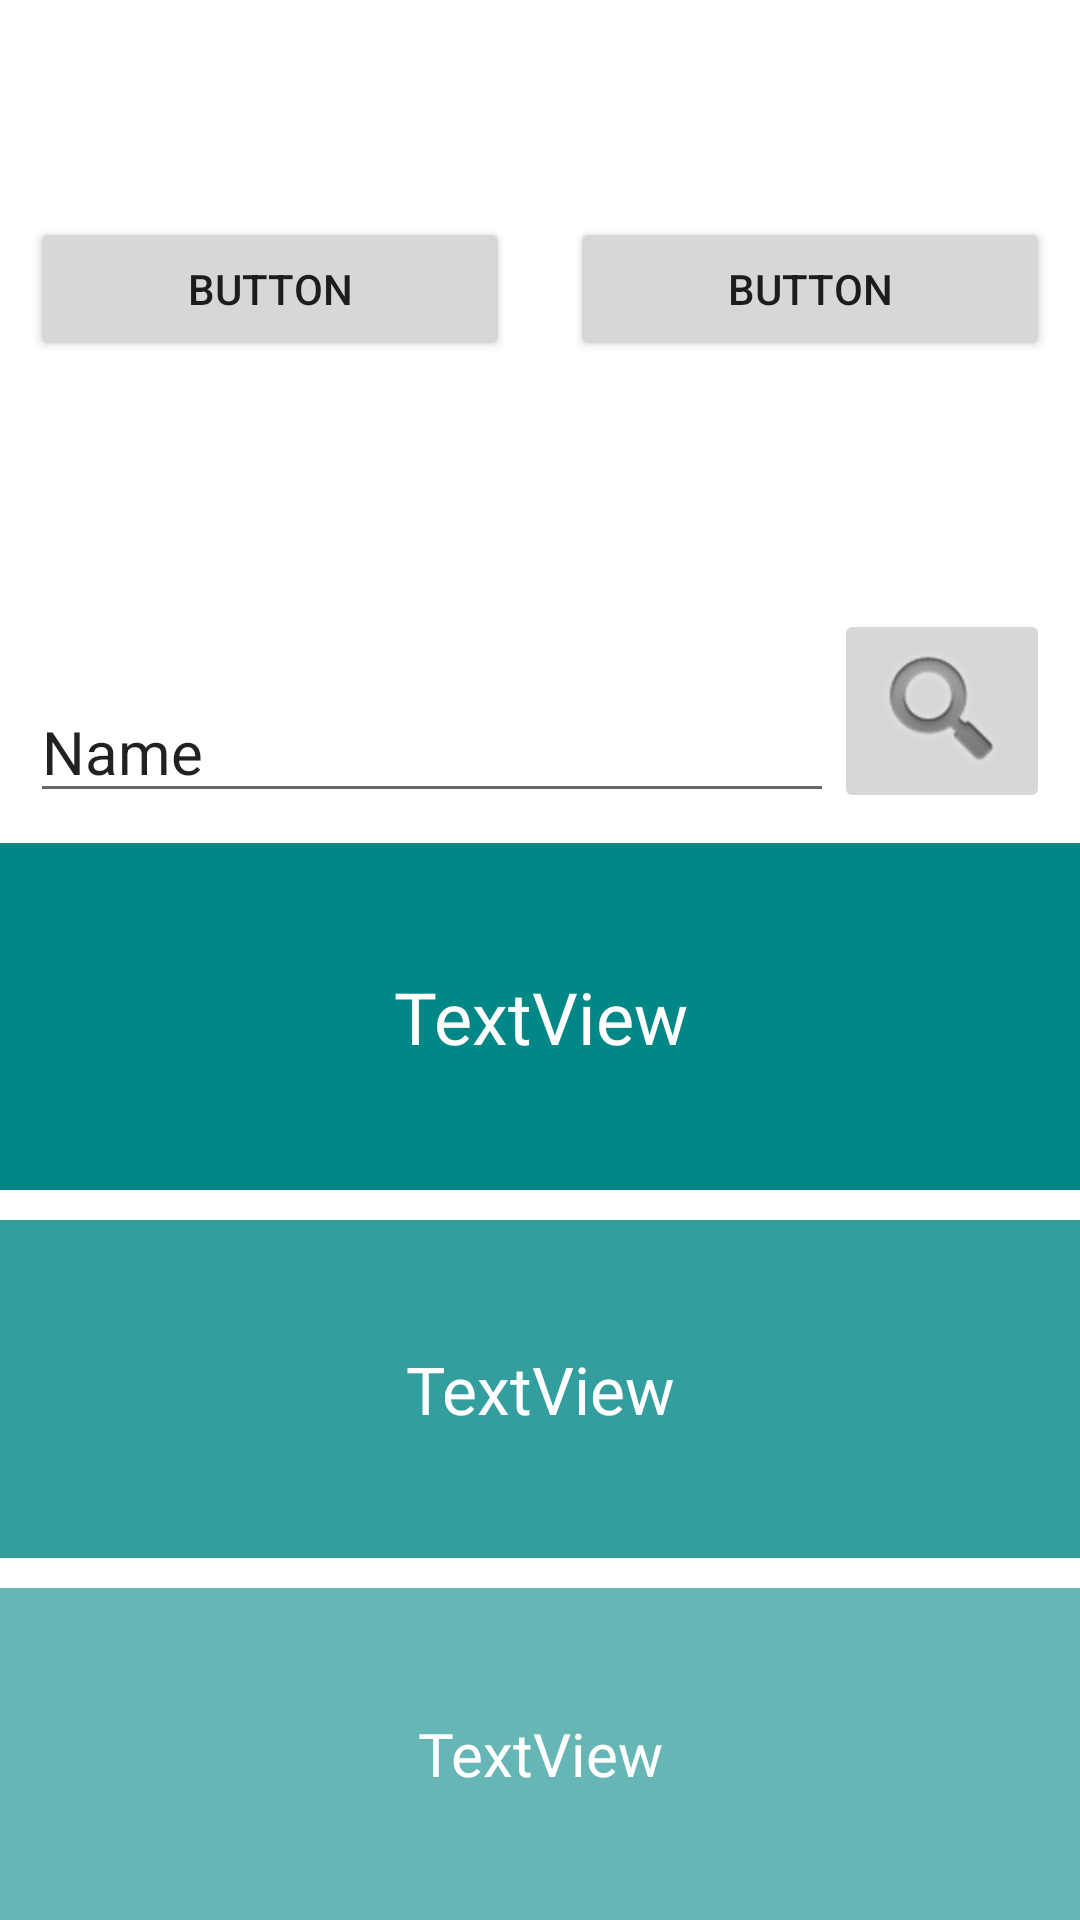

Icons on this 1080x1920 Android screen, each with its box as bbox(x1, y1, x2, y2):
search category: bbox(846, 627, 1038, 795)
